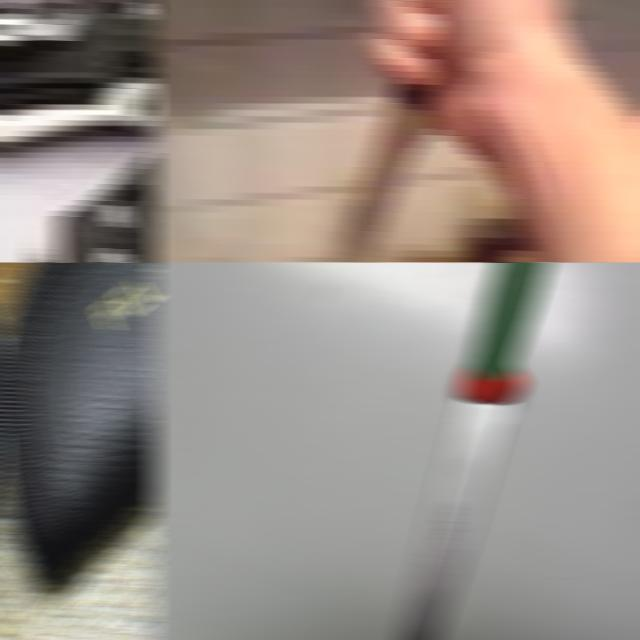Knife: (395, 262, 550, 640), (19, 149, 158, 262)
Knife_Handle: (309, 0, 530, 262)
